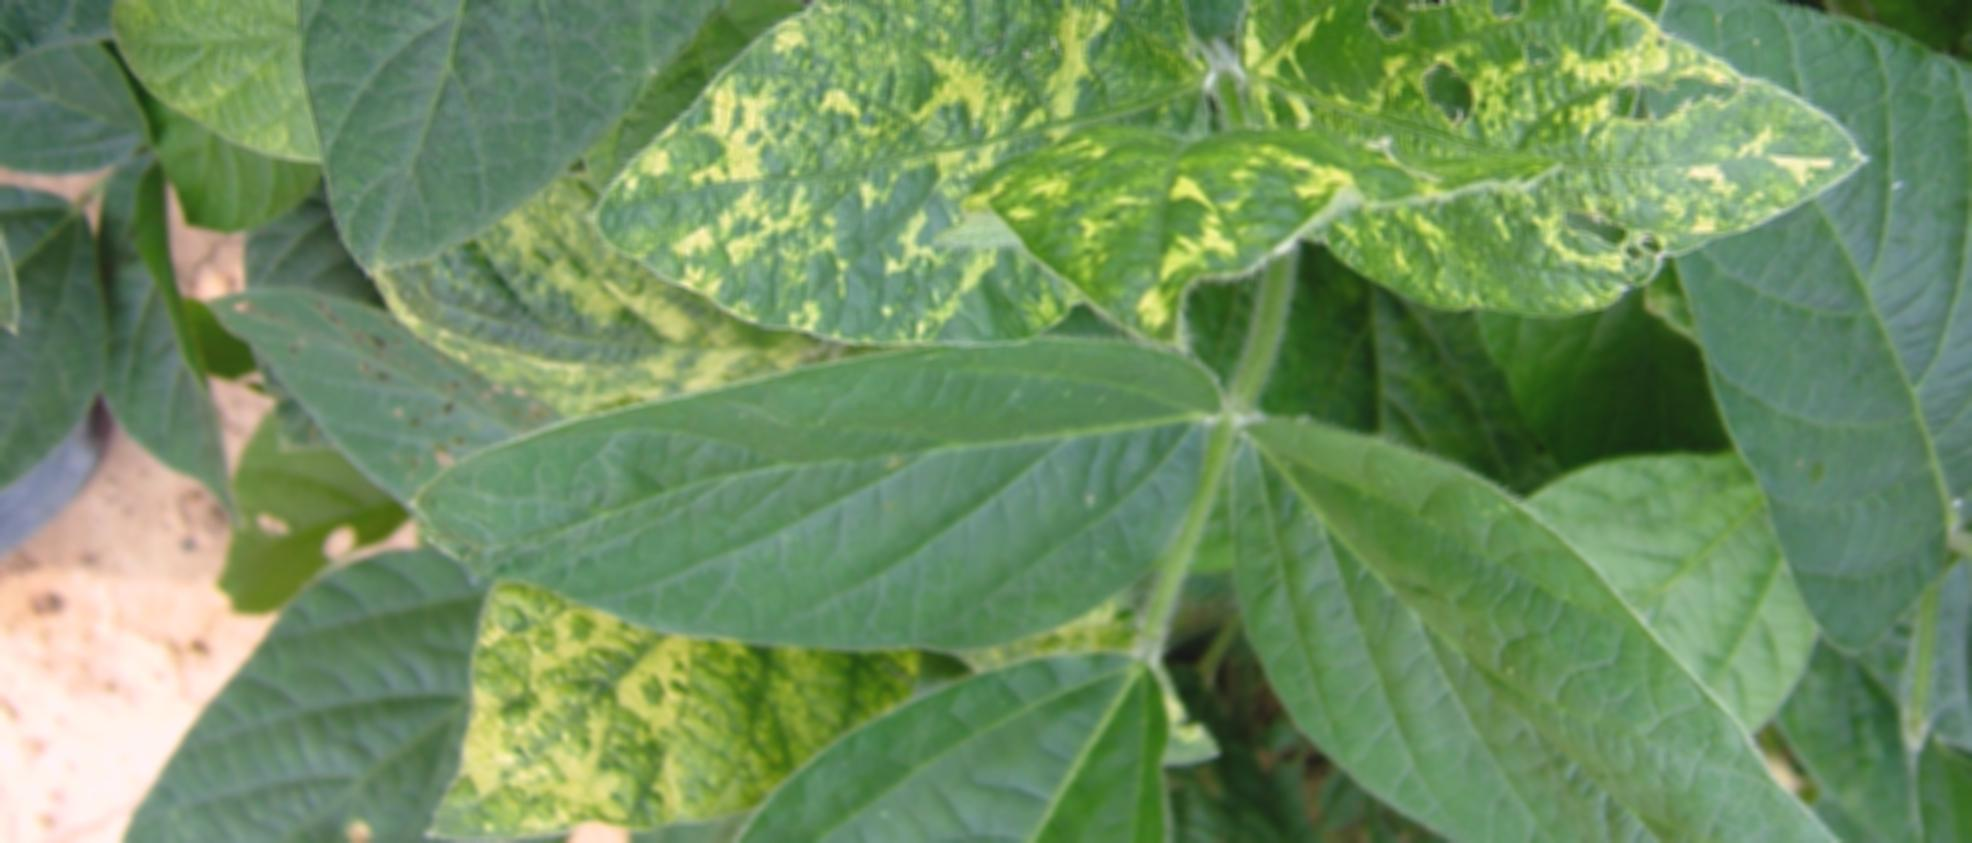Tomato leaf: (444, 333, 1223, 664)
Tomato leaf mosaic virus: (1241, 0, 1868, 343), (627, 0, 1199, 323)
